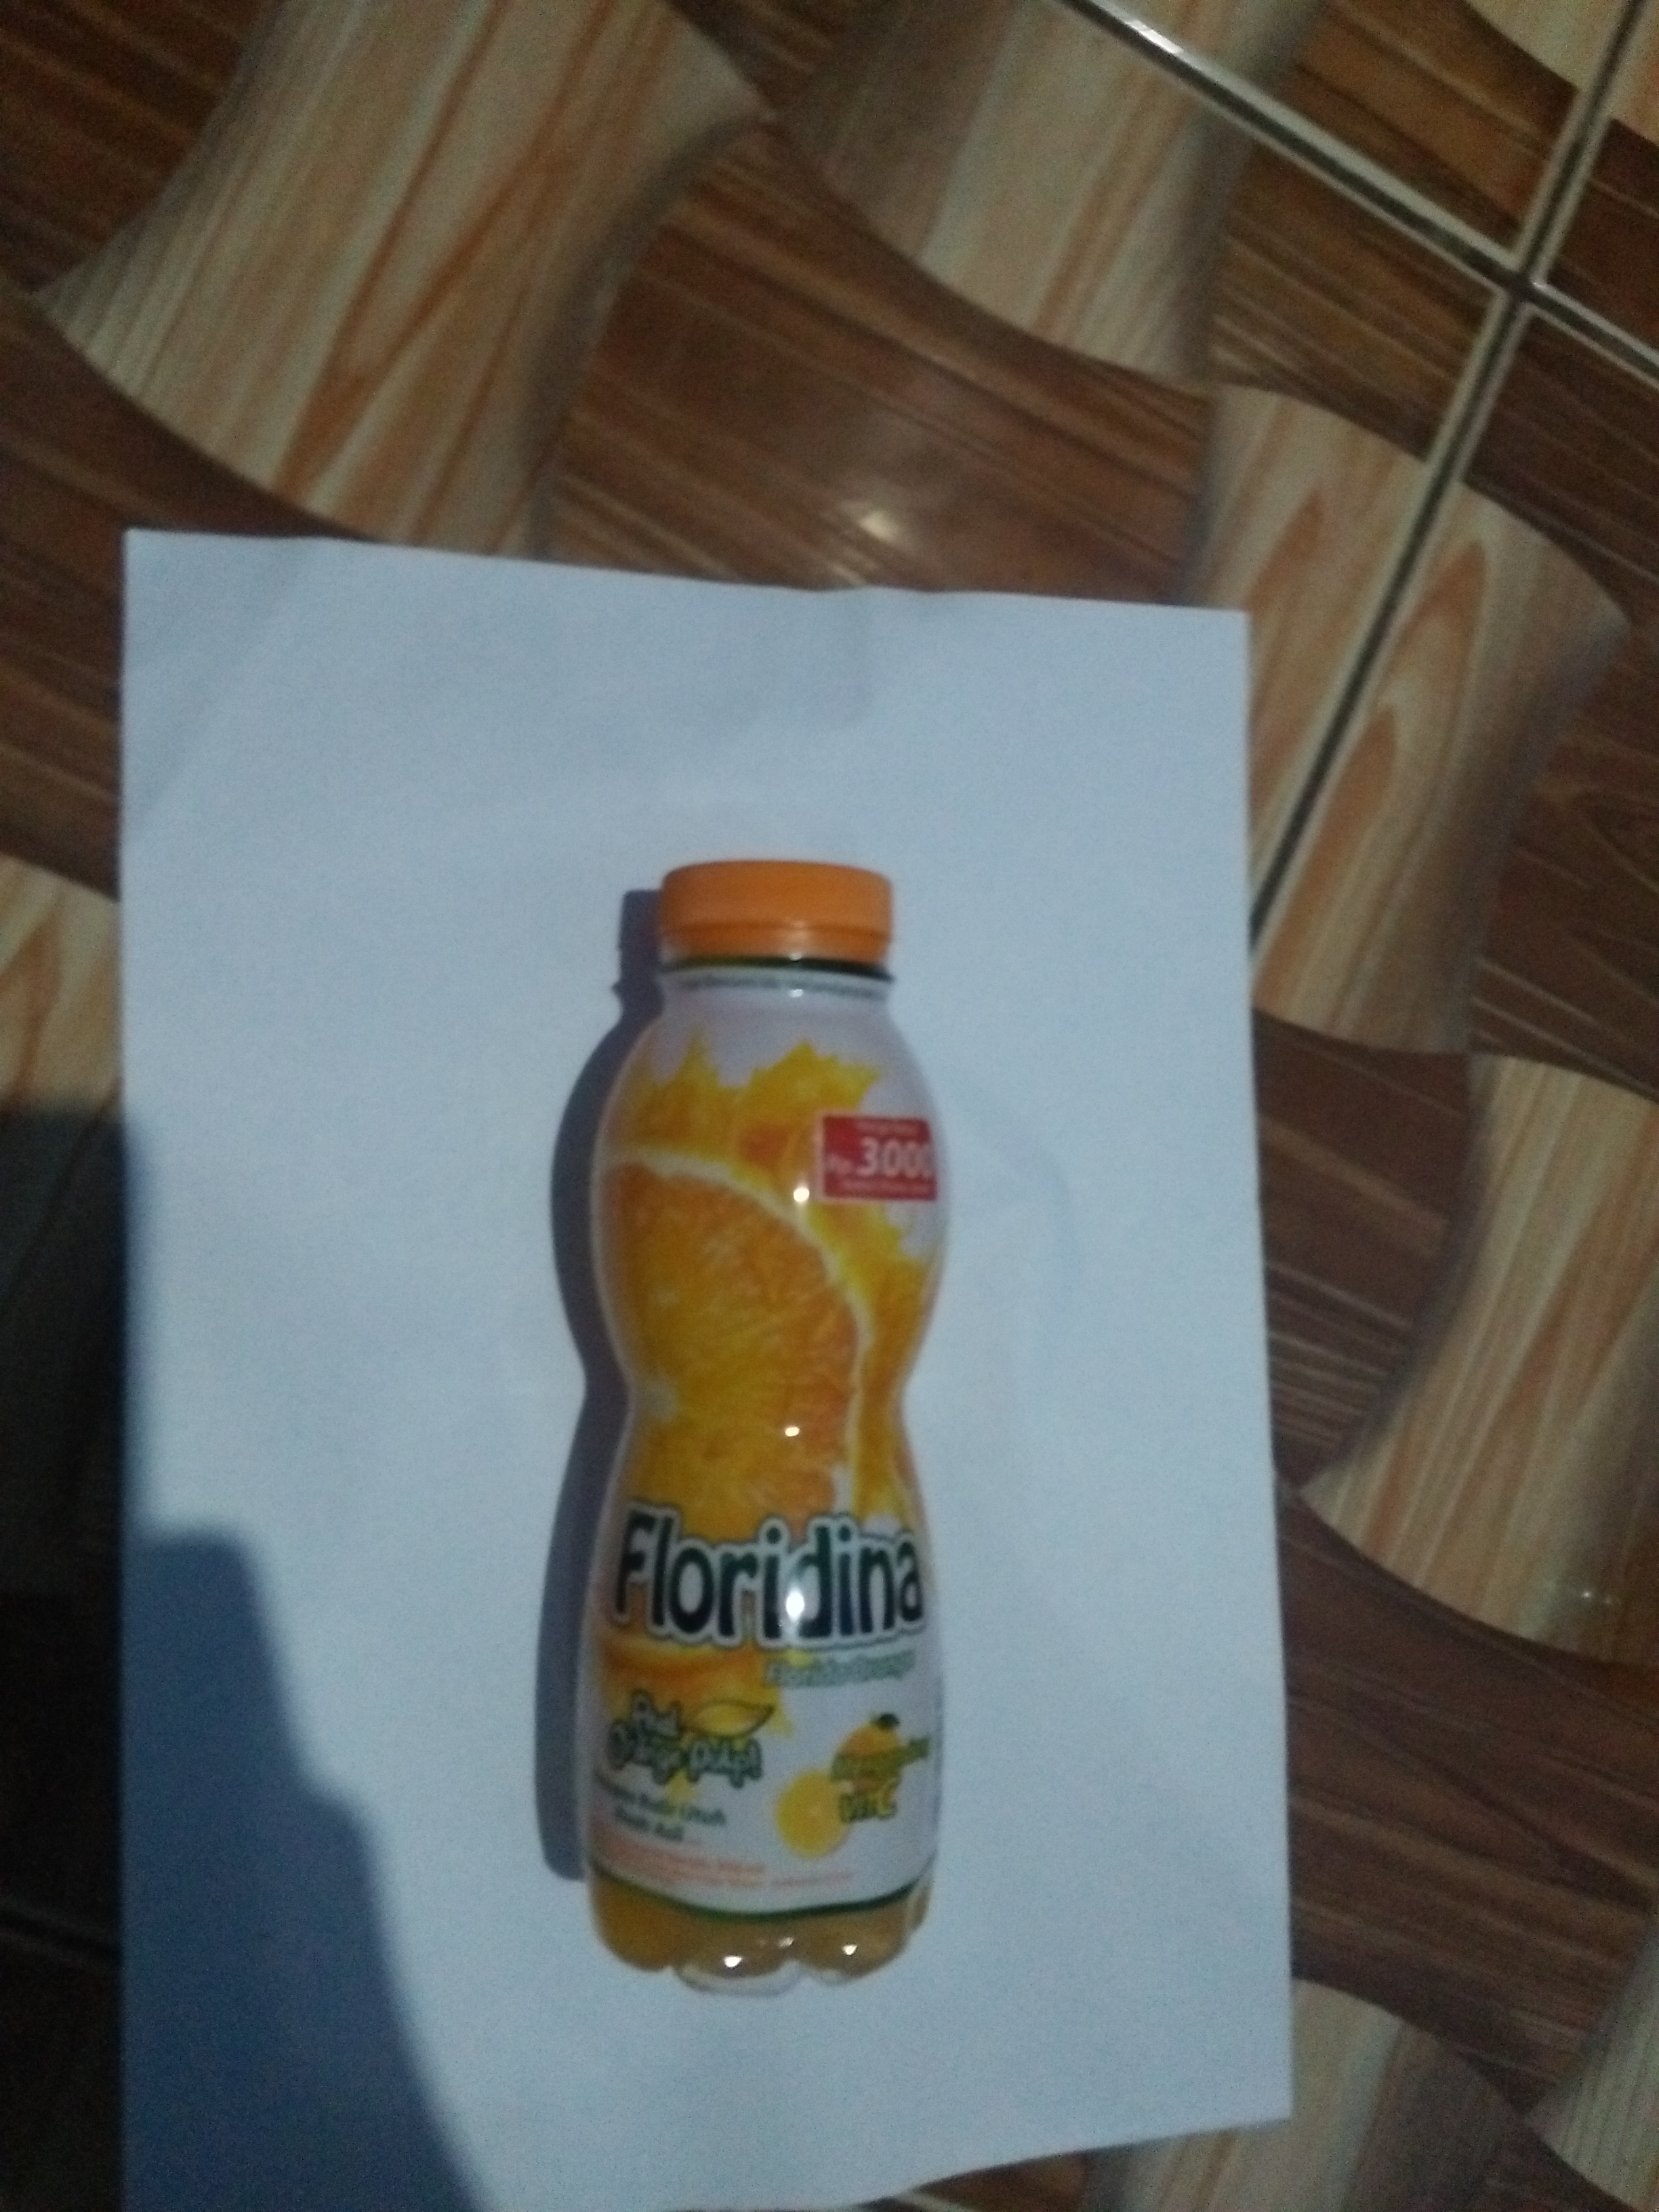Floridina: (559, 831, 983, 1989)
